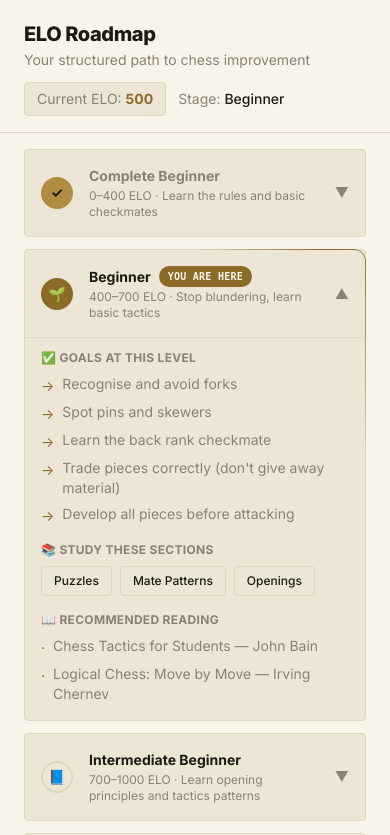
EloRoadmapPage › clicking a non-current stage header expands its goals
Expected: the text "Control the centre with pawns and pieces" is not shown
What coordinates should you click on to do the following:
click the text "Intermediate Beginner"
I would click on:
 (165, 760)
Its box is [89,750,241,770].
(page scrolled)
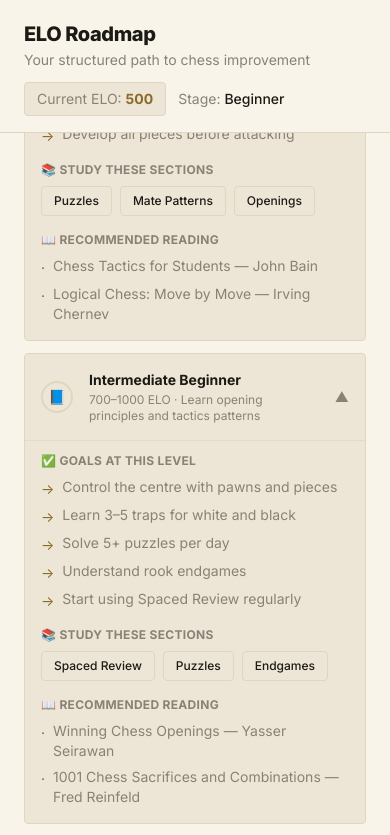
Now the list item "Control the centre with pawns and pieces" is shown, box [62,478,337,495]
